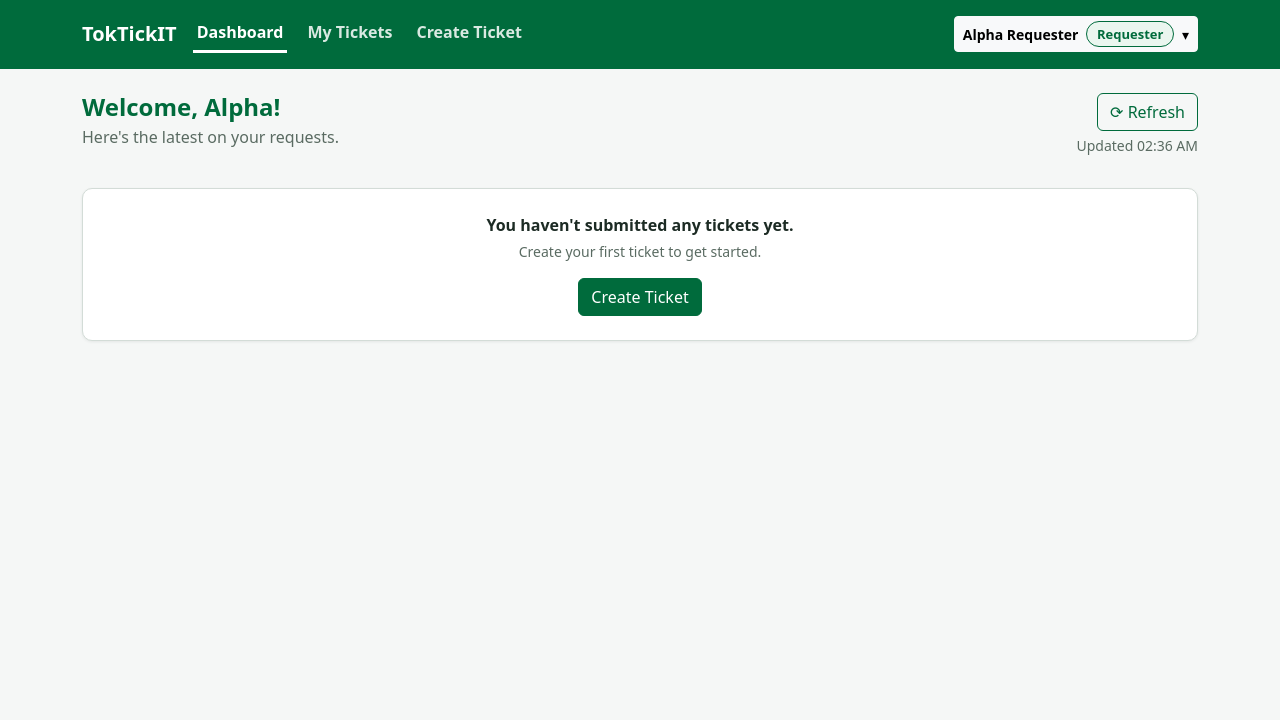
Scenario: UI-04 / UI-05 / UI-06 / UI-07 — Create Ticket (AC-05, AC-07, AC-09, AC-10) › displays every required ticket field
The image size is (1280, 720).
Click the button "Create Ticket" in the row of "TokTickIT" at (469, 34), box top-left (412, 16), bottom-right (526, 53)
(page scrolled)
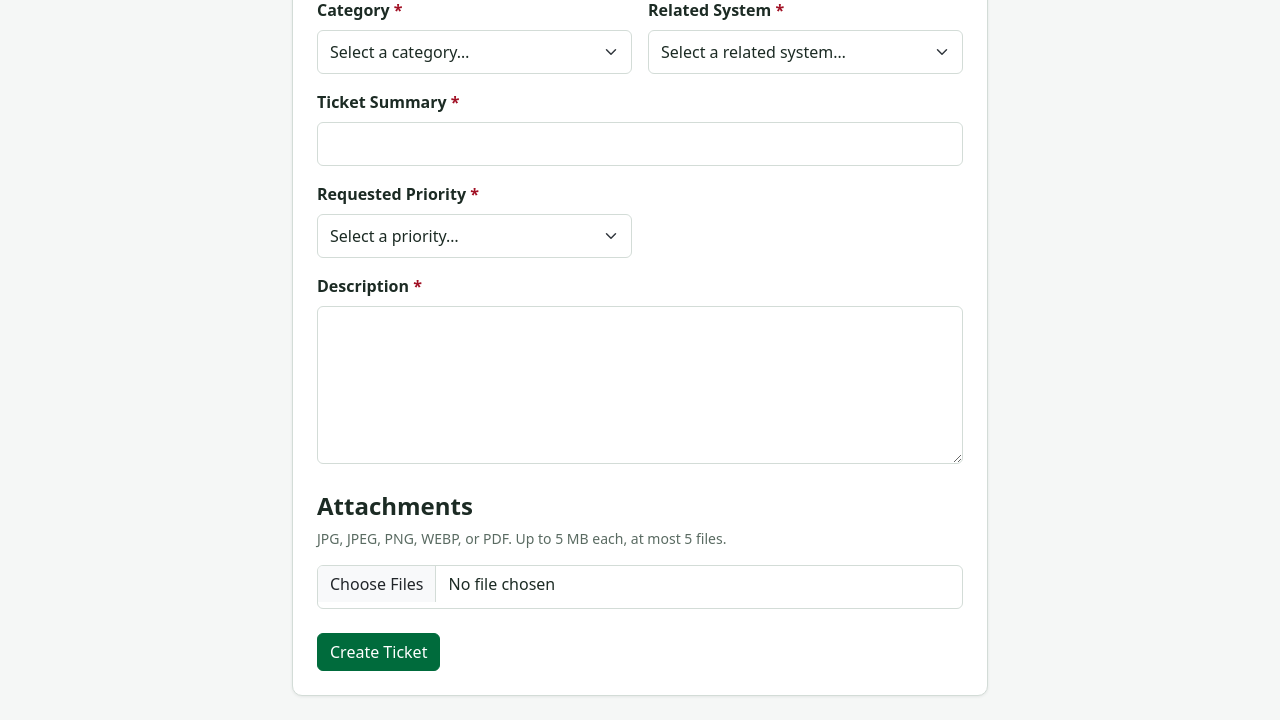
Expected: the dropdown labelled "Category *" is shown, top-left (317, 30), bottom-right (632, 74)
Expected: the dropdown labelled "Related System *" is shown, top-left (648, 30), bottom-right (963, 74)
Expected: the field labelled "Ticket Summary *" is shown, top-left (317, 122), bottom-right (963, 166)
